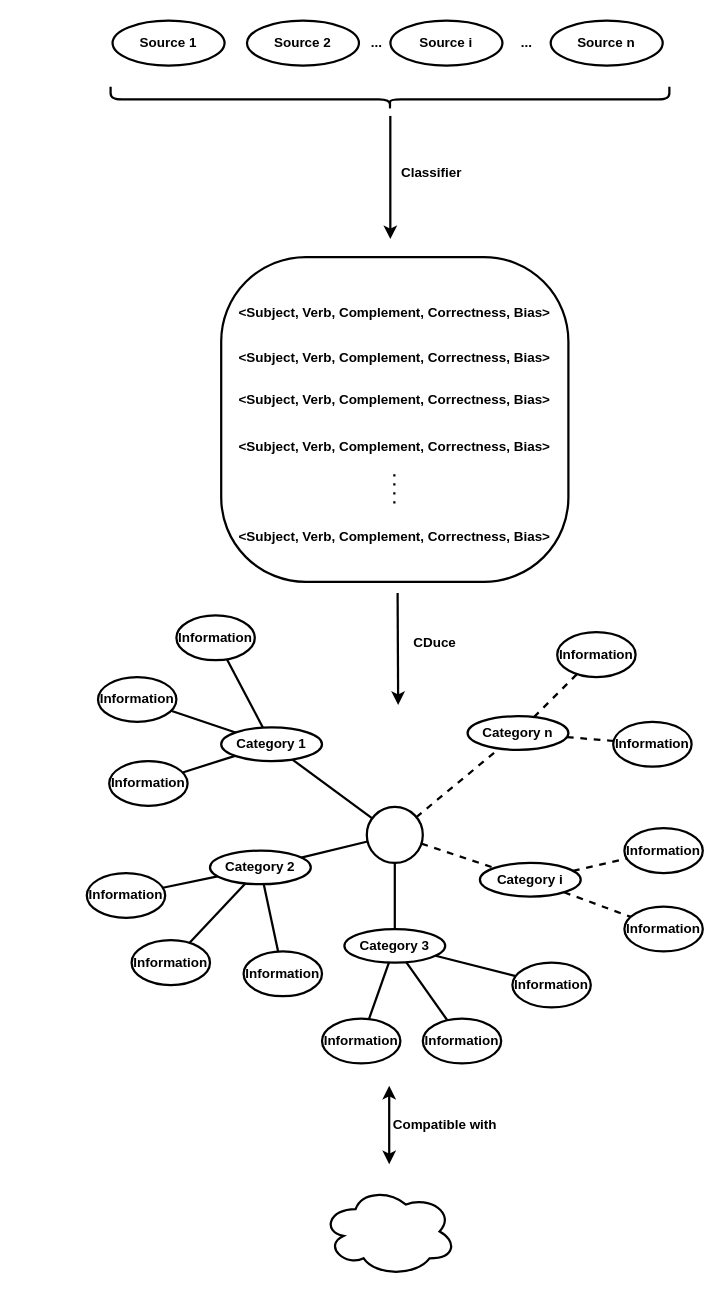
Some shapes in this 722 by 1296 pixel diagram are drawn without their labels. Here are the shapes that lost their labels. From the top down, the box of each, then its label:
(365, 805, 423, 864): Subject
(320, 1185, 457, 1277): Wikidata
